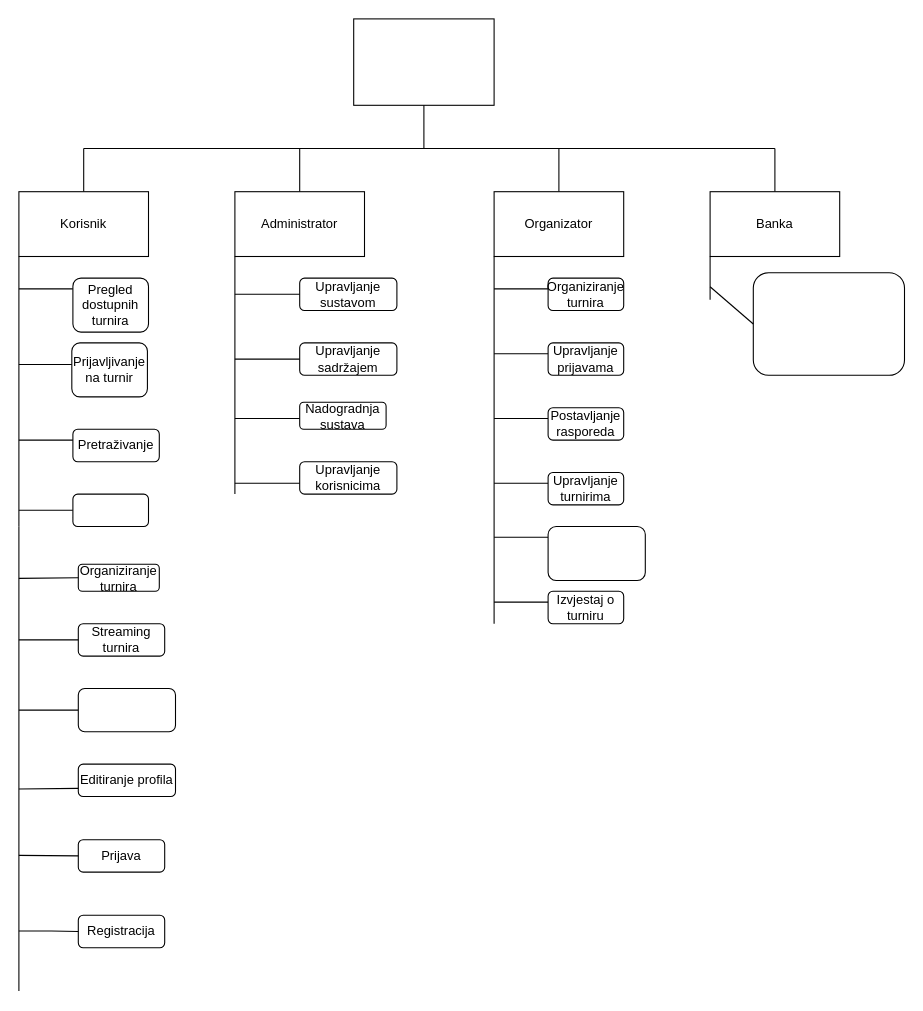
Some shapes in this 923 by 1011 pixel diagram are drawn without their labels. The shapes that lost their labels are listed below. From the top down, each one's centre as x and y in pixels, then its label:
(x=423, y=61): Gamestars
(x=828, y=323): Potvrda uplate i isplate korisnicima
(x=110, y=509): Natjecanje
(x=596, y=552): Komunikacija s natjecateljima
(x=126, y=709): Detaljne informacije o turniru
